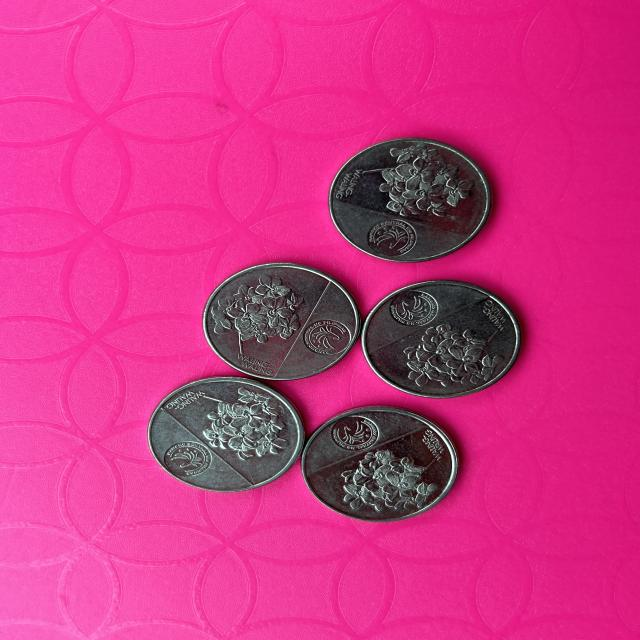1_New_Back: (362, 144, 463, 225), (188, 388, 293, 464), (334, 452, 446, 518), (404, 317, 496, 392), (214, 278, 315, 343)
